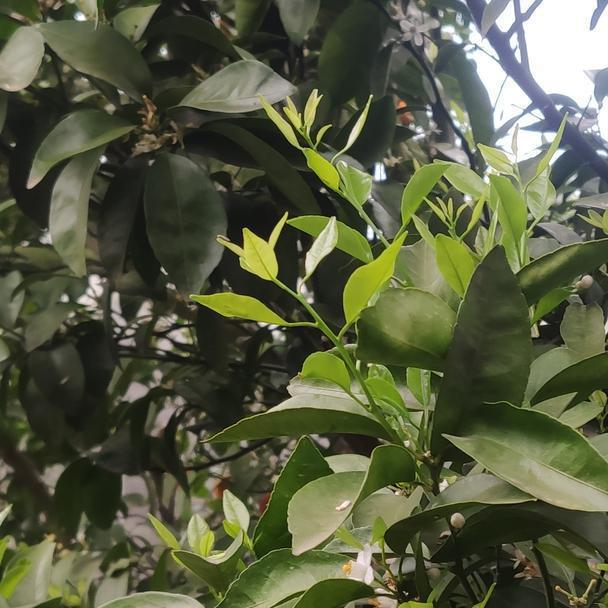shoot: (221, 219, 404, 380), (262, 84, 433, 227), (457, 131, 571, 261)
